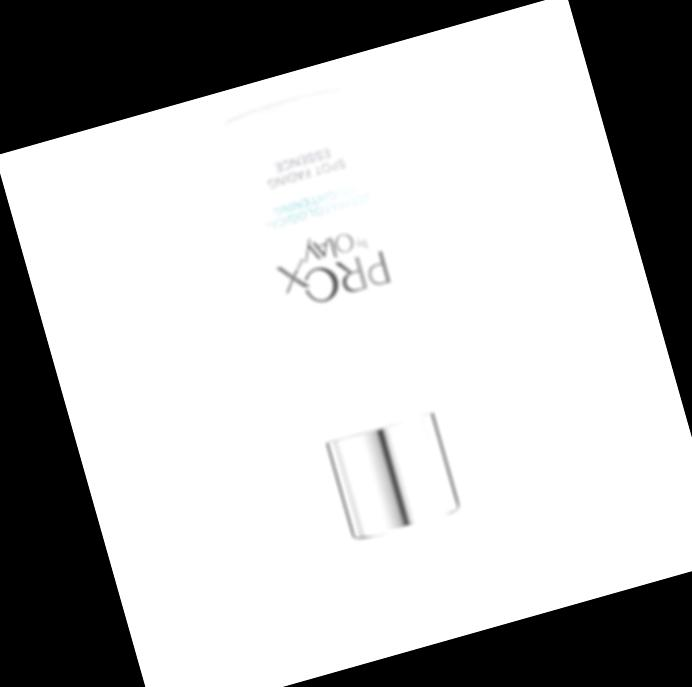cosmetic: (213, 93, 501, 633)
